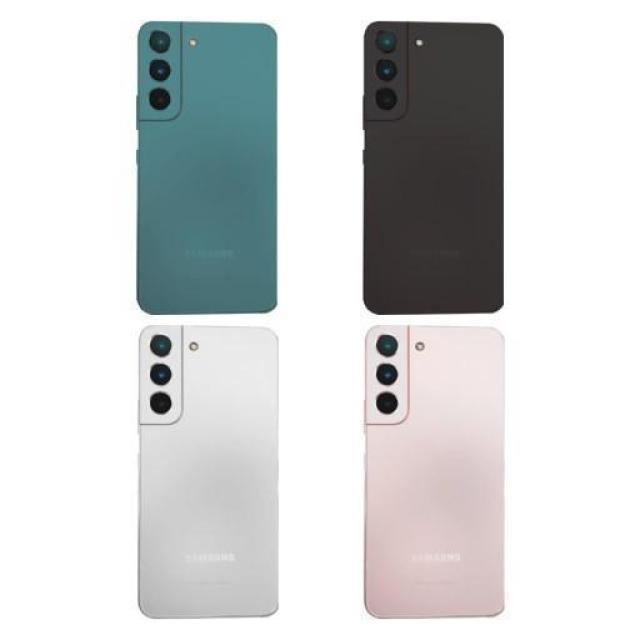cellphone: (136, 325, 282, 621), (362, 20, 507, 316), (362, 324, 506, 618), (136, 21, 279, 316)
